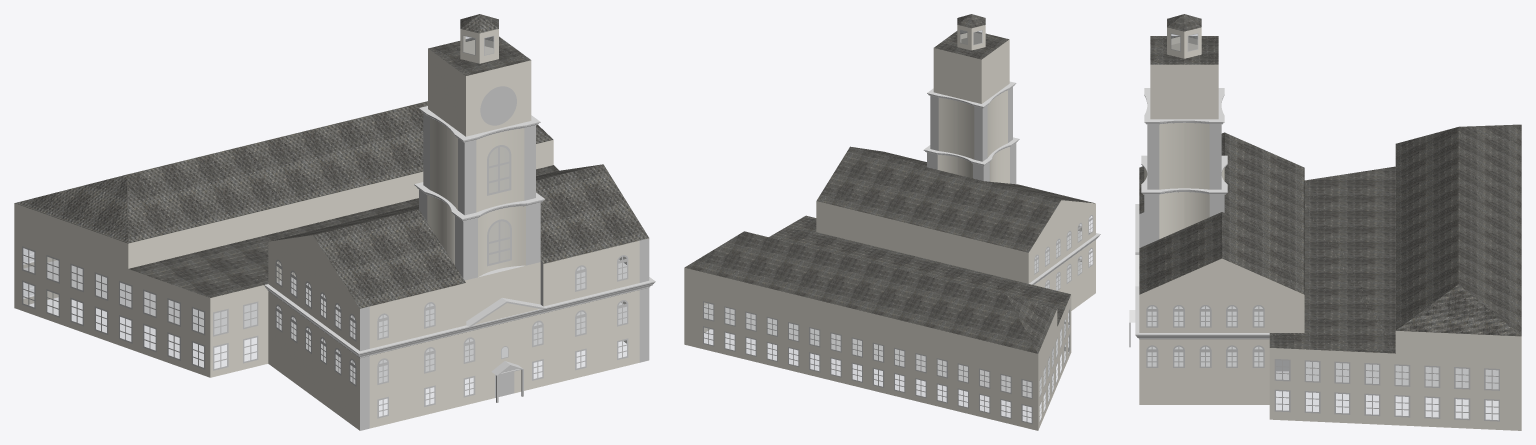
File: ratusha-vitebsk.glb
3 renders of one model, left to right at view 1: azimuth 30°, elevation 25°; view 2: azimuth 150°, elevation 25°; view 3: azimuth 270°, elevation 25°, orthographic. The views are drawn at different scales.
Parts seen in each view (by area): view 1: Geom3D (×3), Geom3D_; view 2: Geom3D (×3), Geom3D_; view 3: Geom3D (×3), Geom3D_.
Part boxes in pixels (x1,y1,x2,y2): Geom3D (×3): [14, 14, 648, 430]; Geom3D_: [22, 35, 655, 430]; Geom3D (×3): [684, 14, 1095, 430]; Geom3D_: [703, 29, 1100, 424]; Geom3D (×3): [1139, 14, 1521, 430]; Geom3D_: [1129, 33, 1499, 421].
Size of the model in its own units: 50 by 36 by 39.13.
3 materials, 1 textured.
